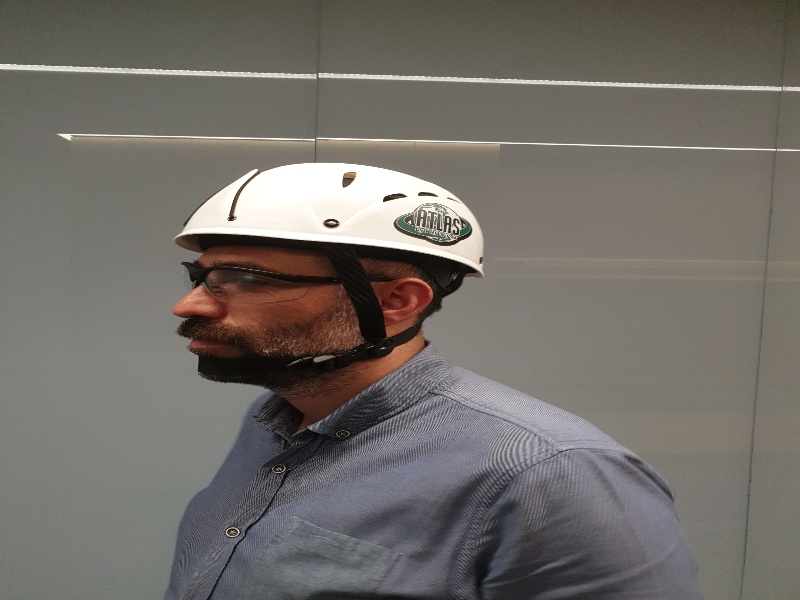Baret: (180, 162, 482, 269)
Gozluk: (181, 259, 396, 300)
